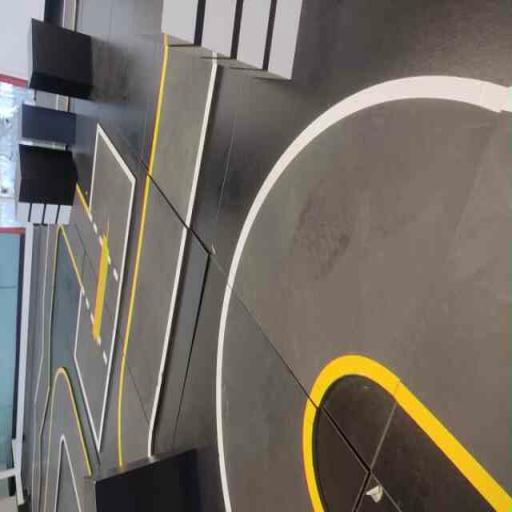left: (211, 54, 510, 473)
